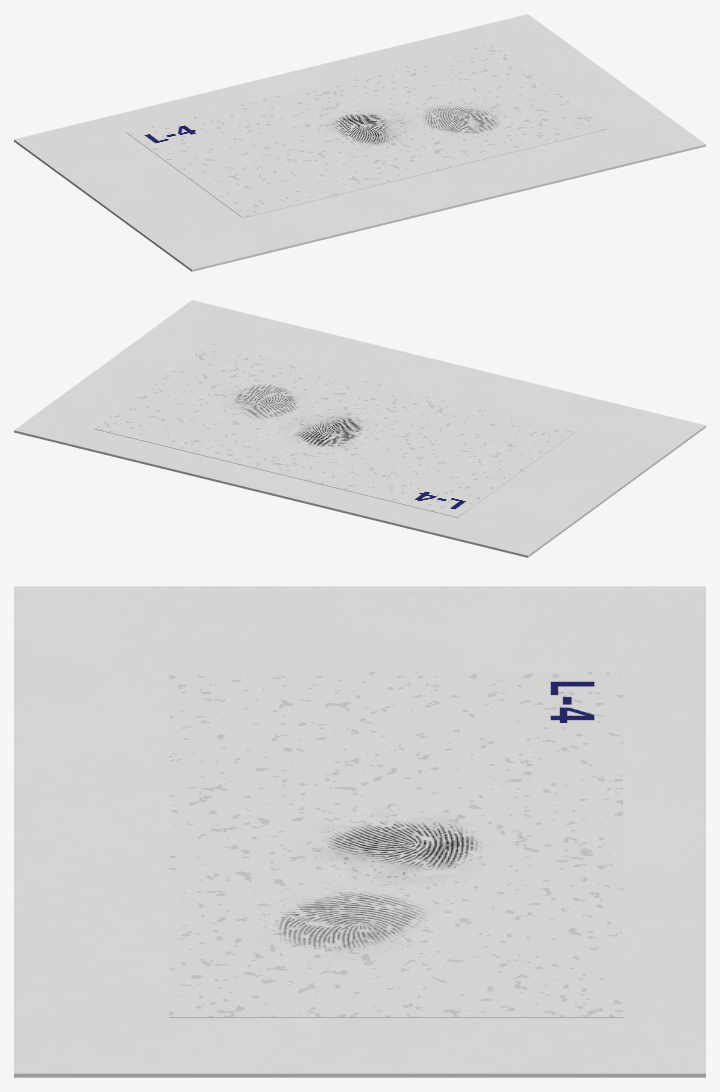
The model's file is LiftCardWithPrint.obj.
The picture shows the model from 3 angles, top to bottom: view 1: azimuth 30°, elevation 25°; view 2: azimuth 150°, elevation 25°; view 3: azimuth 270°, elevation 25°; orthographic projection. The views are drawn at different scales.
Visible parts, largest first — view 1: Card, LiftTape; view 2: Card, LiftTape; view 3: Card, LiftTape.
Part boxes in pixels (x1=…): Card: x1=14, y1=14, x2=705, y2=271; LiftTape: x1=126, y1=43, x2=607, y2=218; Card: x1=14, y1=300, x2=705, y2=557; LiftTape: x1=94, y1=343, x2=574, y2=517; Card: x1=14, y1=586, x2=705, y2=1077; LiftTape: x1=169, y1=671, x2=623, y2=1017.
Bounding box in the file's own units: 0.127 × 0.0006 × 0.0762.
Materials: 2 (2 with a texture image).
